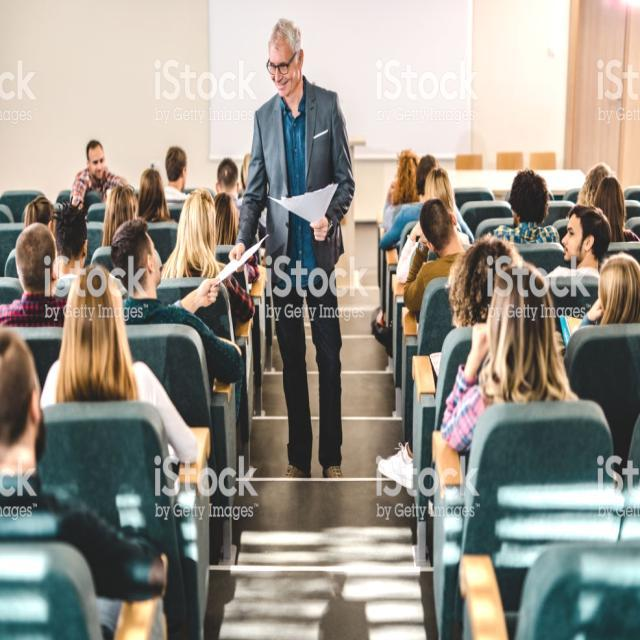cheating: (187, 226, 296, 337)
good: (99, 205, 296, 363)
